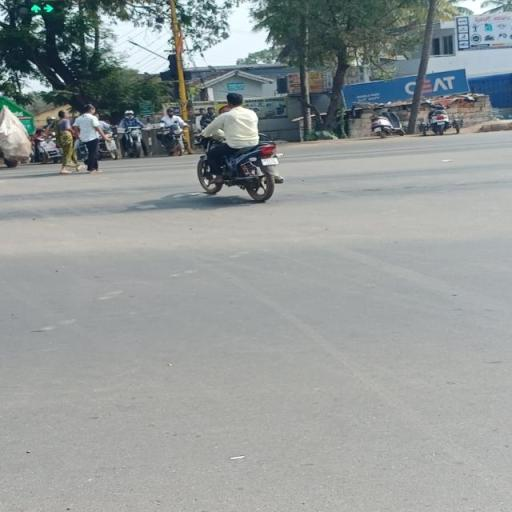bike: (192, 90, 290, 205)
withouthelmet: (226, 93, 244, 107)
